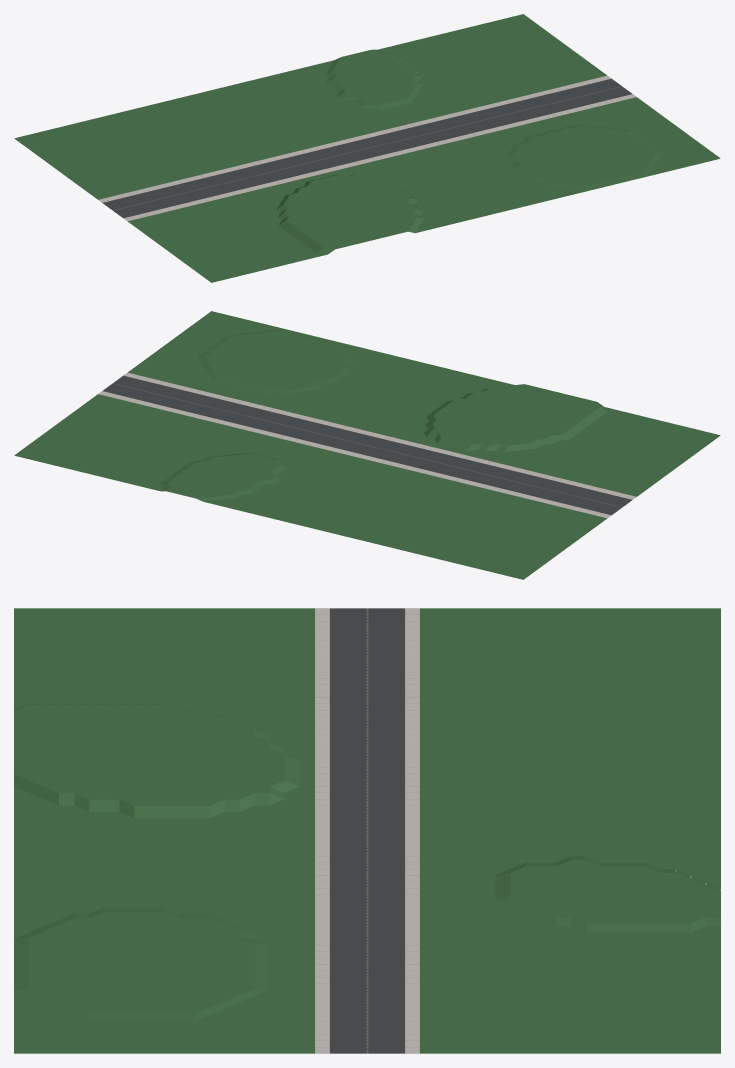
Rendered from start.dae.
3 views of the same model, one above another, from view 1: azimuth 30°, elevation 25°; view 2: azimuth 150°, elevation 25°; view 3: azimuth 270°, elevation 25° (orthographic). The views are drawn at different scales.
Parts seen in each view (by area): view 1: Cube; view 2: Cube; view 3: Cube.
Boxes of the visible parts, bbox=[...] form: Cube: bbox=[14, 14, 720, 282]; Cube: bbox=[14, 311, 720, 579]; Cube: bbox=[14, 608, 720, 1053].
Bounding box in the file's own units: 136 × 91.06 × 0.8438.
Materials: 1 (1 with a texture image).
